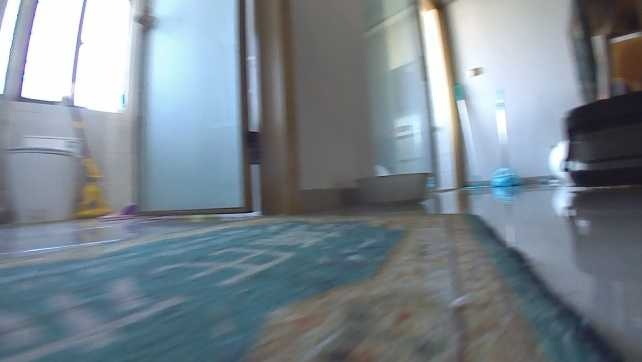blanket: (0, 214, 619, 361)
door_anno: (130, 1, 297, 212)
toilet: (1, 134, 85, 220)
